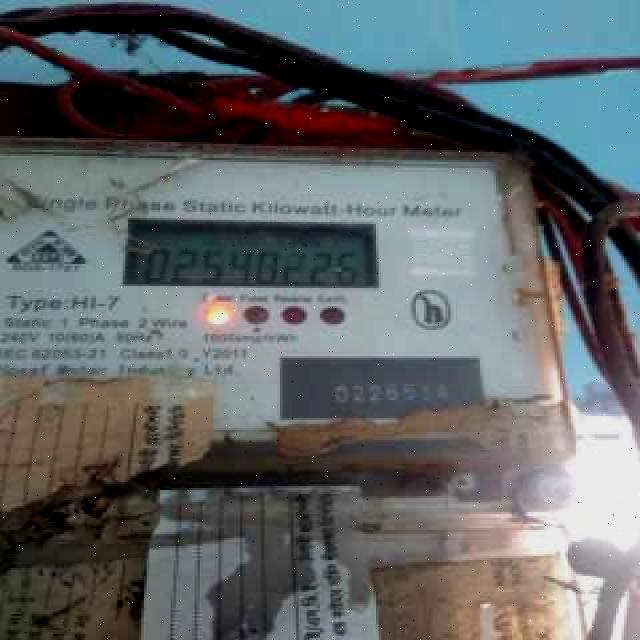LCD: (113, 204, 395, 301)
